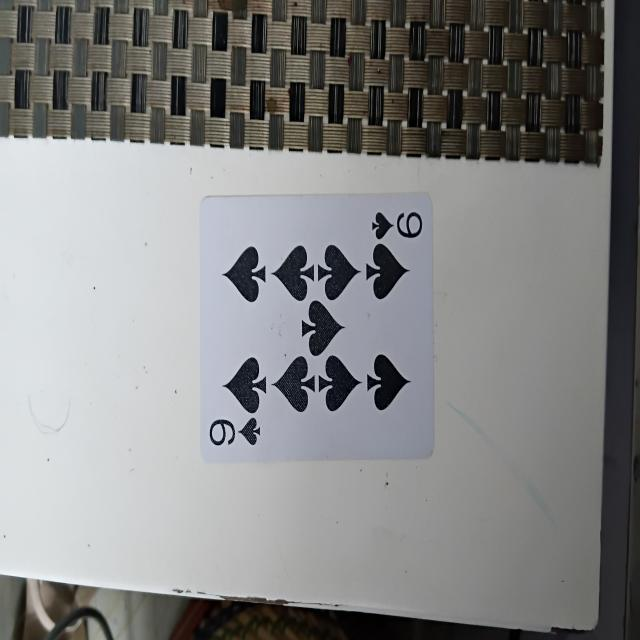9S: (199, 186, 434, 464)
